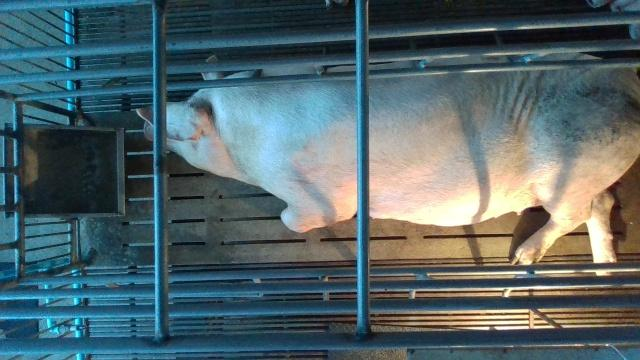sow-sleep: (136, 55, 640, 281)
